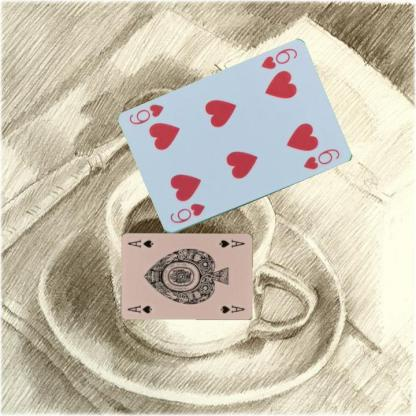6h: (258, 46, 299, 71), (167, 201, 206, 225)
As: (125, 302, 153, 314), (216, 237, 246, 248)
